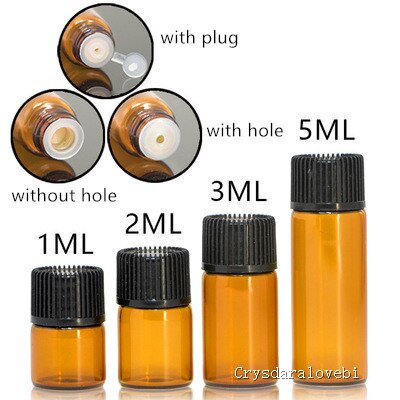glass_bottle: (286, 142, 374, 396), (199, 208, 285, 395), (112, 242, 196, 392), (24, 258, 110, 394)
